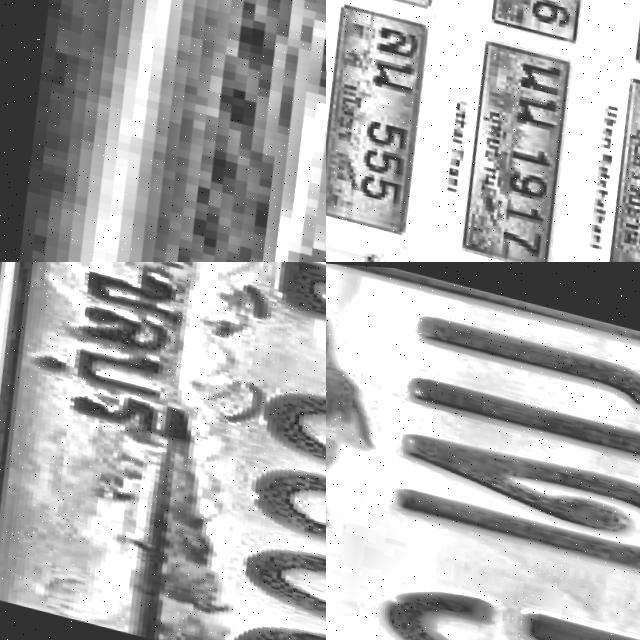license-plate: (0, 262, 326, 640), (326, 262, 640, 640), (0, 0, 326, 262), (441, 37, 579, 262), (326, 0, 438, 236), (582, 66, 640, 262)
